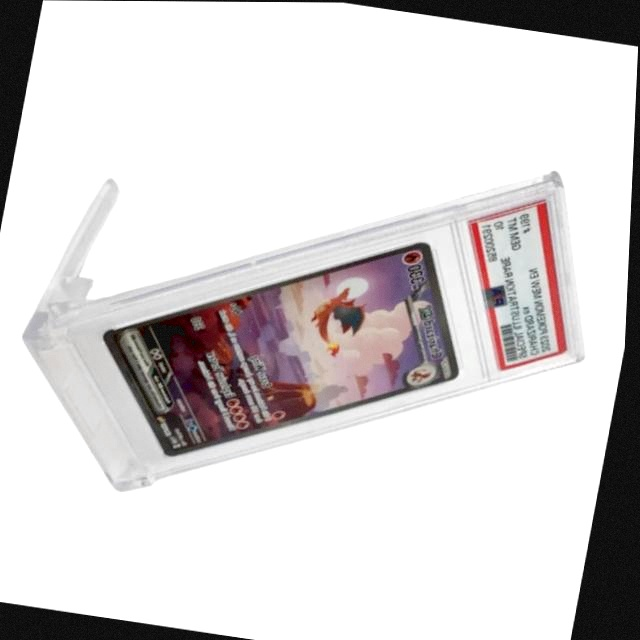card: (105, 241, 462, 457)
